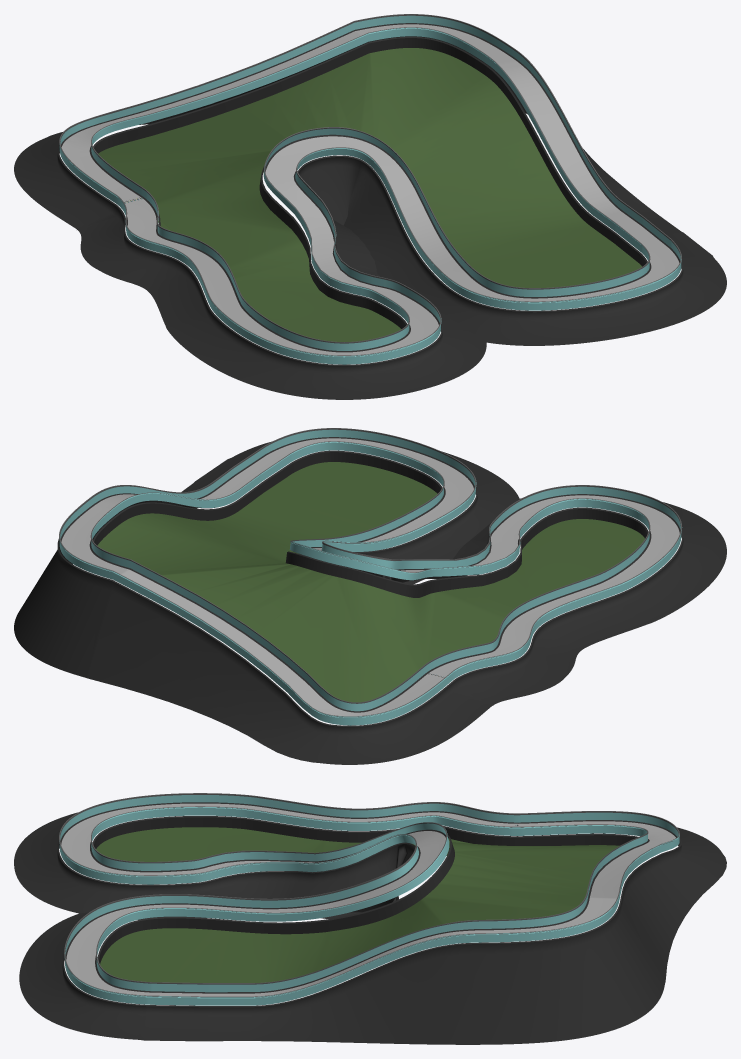
The model's file is space Mayhem track test-UV.fbx.
The picture shows the model from 3 angles, top to bottom: view 1: azimuth 30°, elevation 25°; view 2: azimuth 150°, elevation 25°; view 3: azimuth 270°, elevation 25°; orthographic projection.
Parts seen in each view (by area): view 1: Floor_2; view 2: Floor_2; view 3: Floor_2.
Part boxes in pixels (x1=…): Floor_2: x1=14, y1=14, x2=726, y2=399; Floor_2: x1=14, y1=428, x2=726, y2=764; Floor_2: x1=14, y1=793, x2=726, y2=1044.
Size of what is drawn, in the model's own units: 3.91 by 0.6896 by 4.8.
